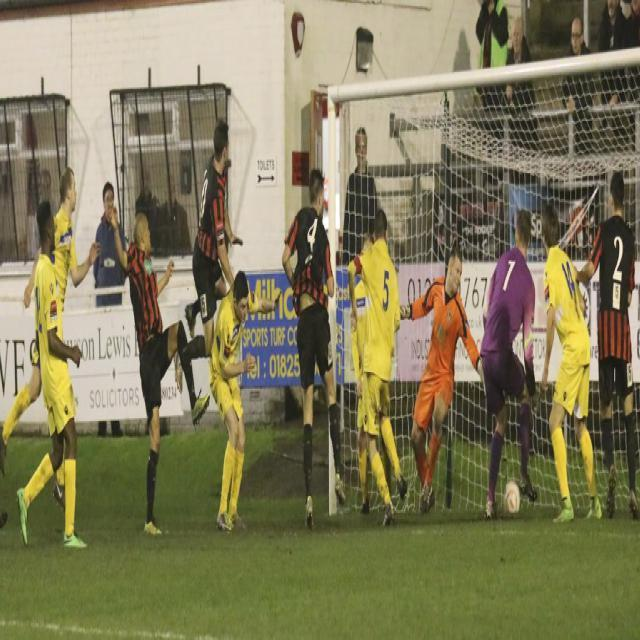football: (496, 476, 529, 527)
